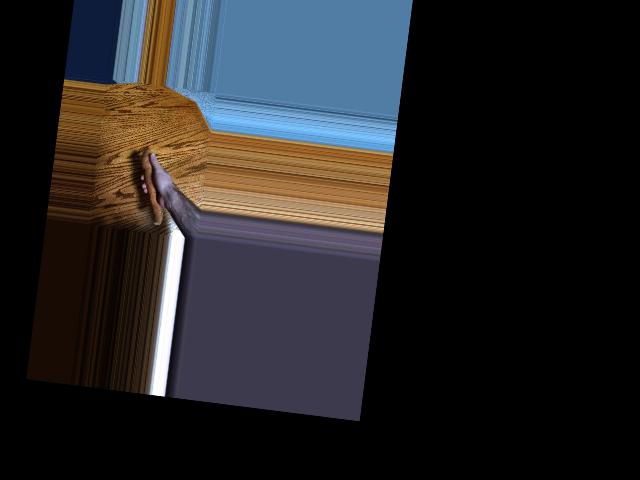sweet_potato: (130, 148, 174, 226)
